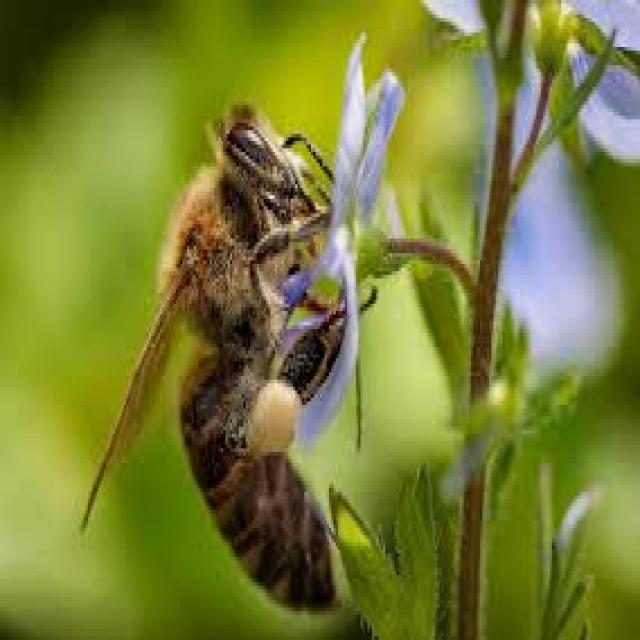Bees: (78, 100, 379, 624)
